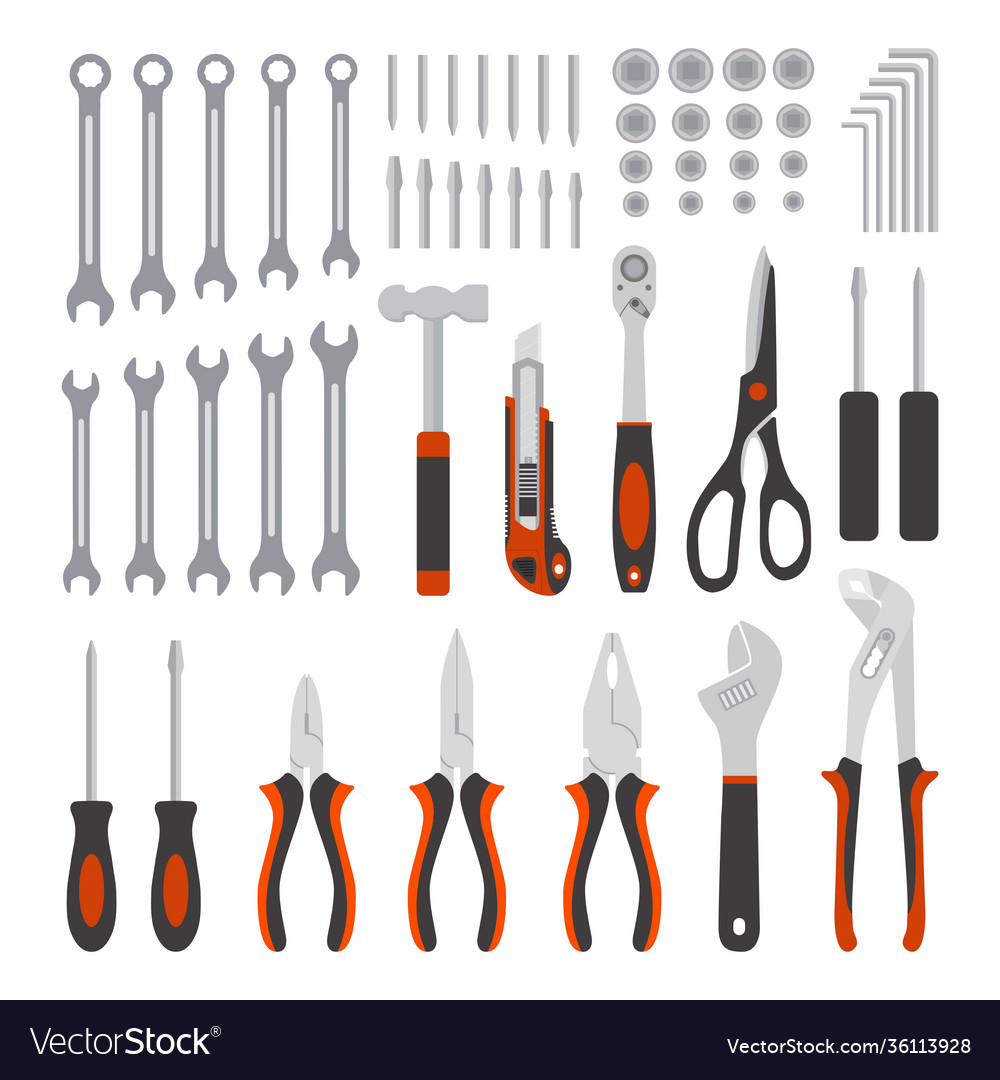Job: (309, 304, 369, 608), (249, 329, 307, 624), (50, 356, 107, 601), (118, 350, 173, 601), (180, 340, 231, 602)
